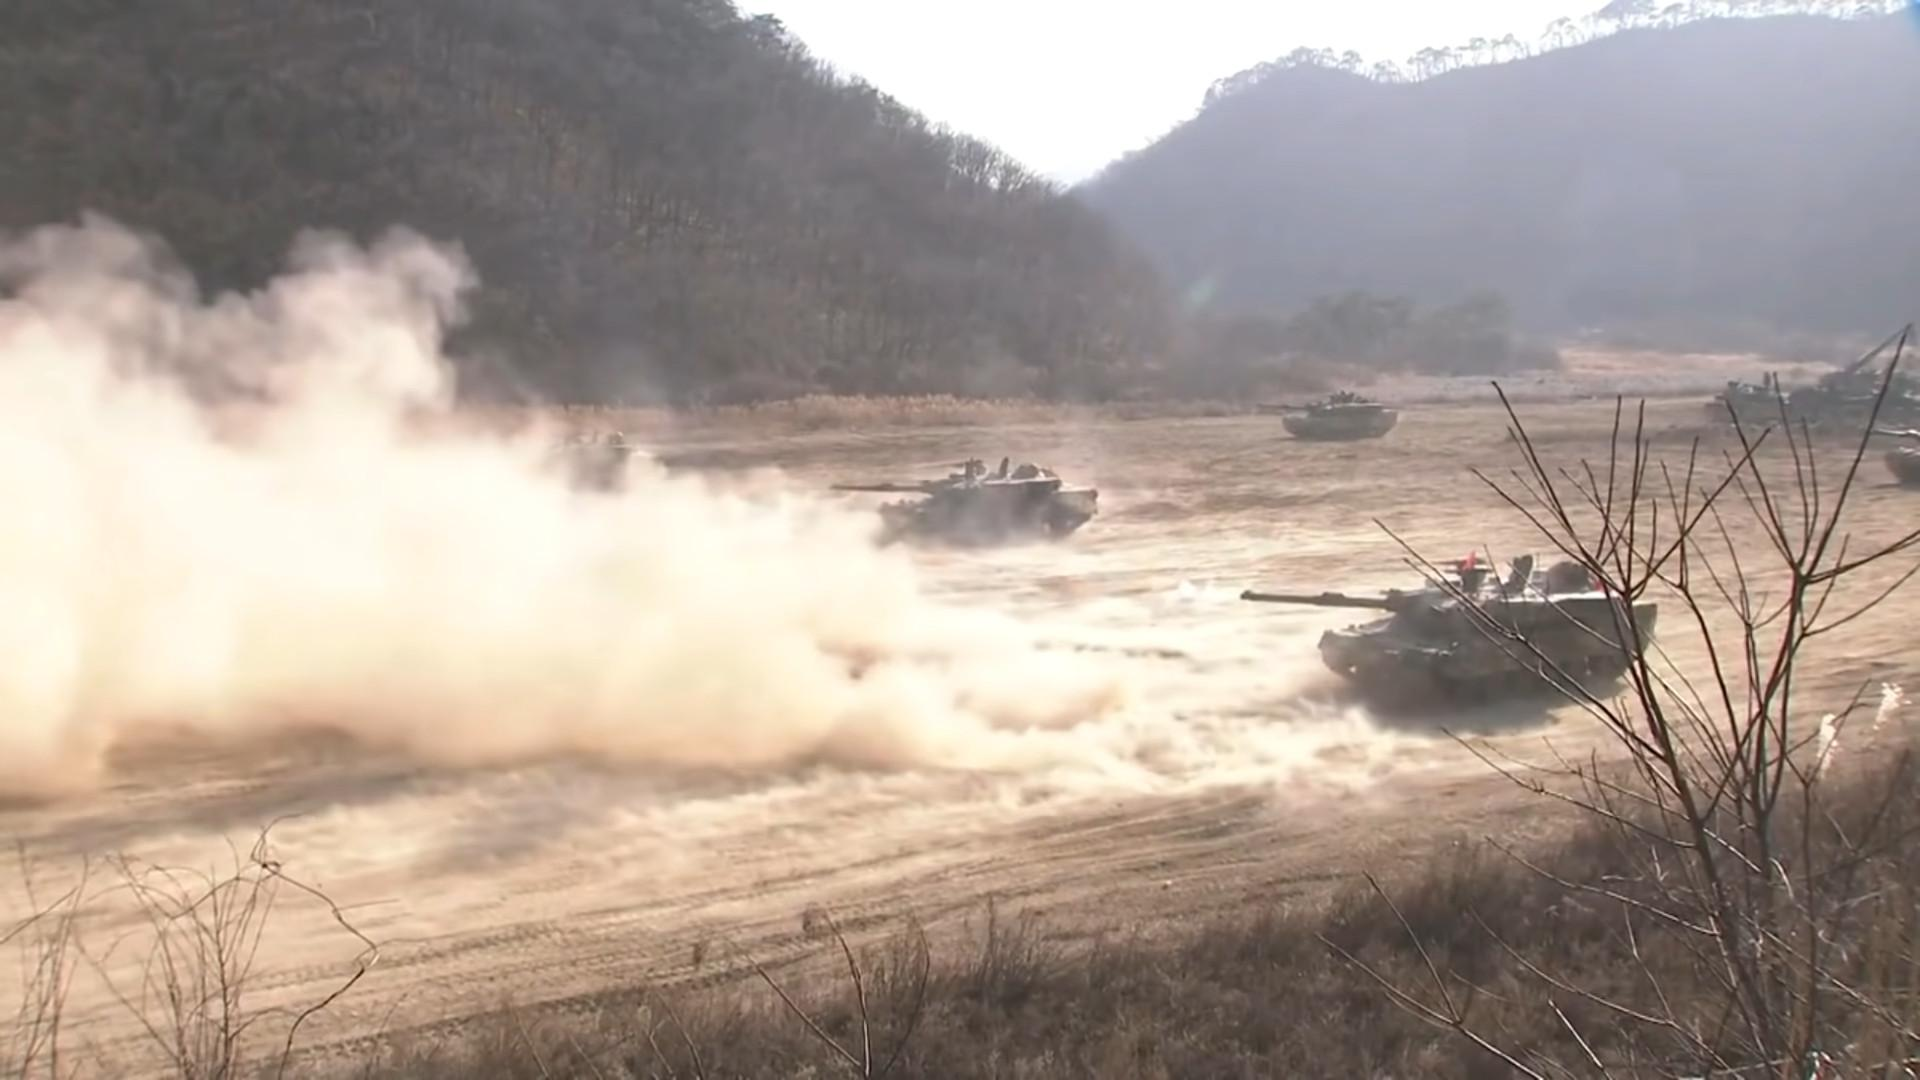tank: (1241, 556, 1656, 713), (832, 458, 1097, 547), (1255, 389, 1398, 442)
